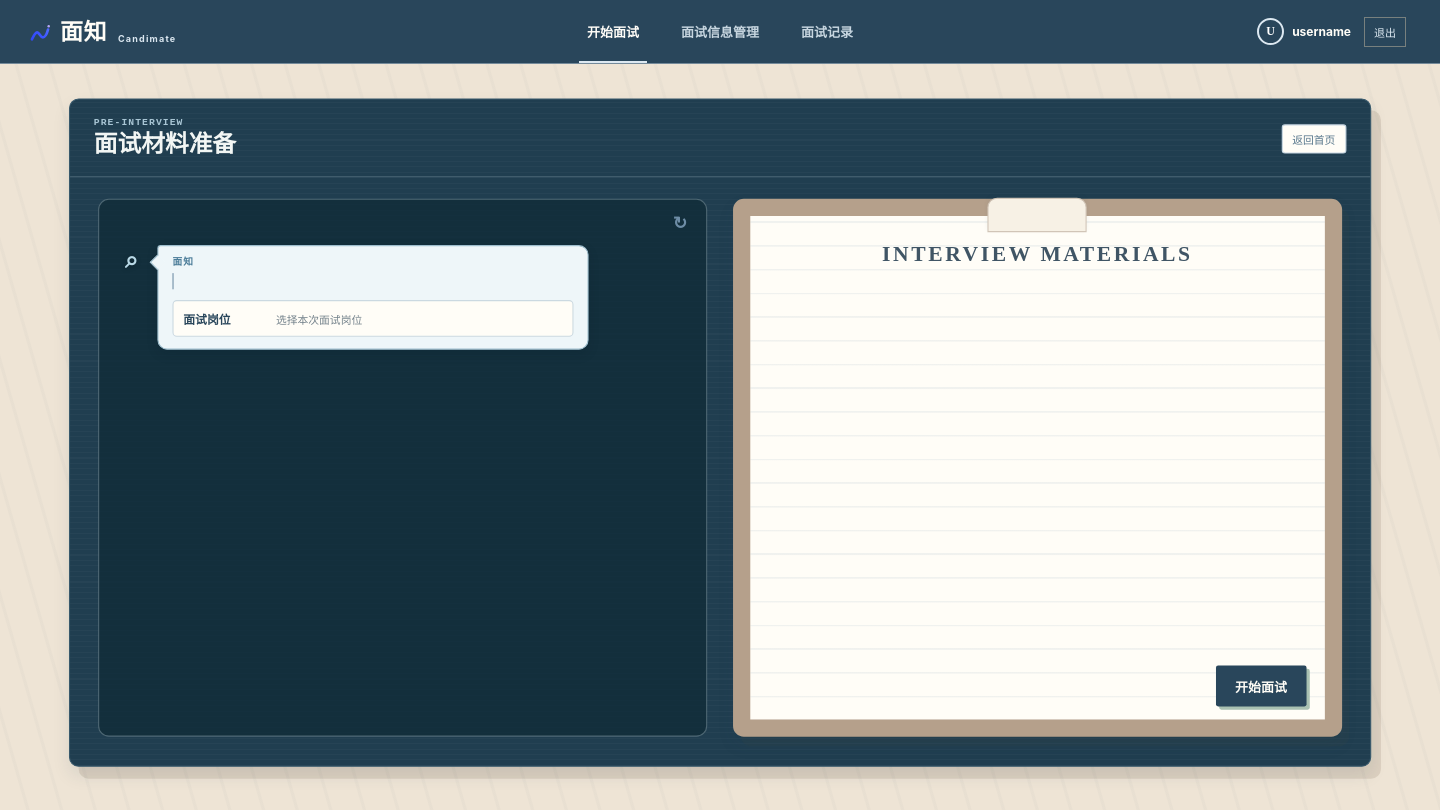
Scenario: CreateInterviewPage 开始面试页（v2.0 对话引导式） › 岗位：点击常用岗位标签直接选中
Click the button "面试岗位 选择本次面试岗位".
click(207, 320)  # box [172,300,574,337]
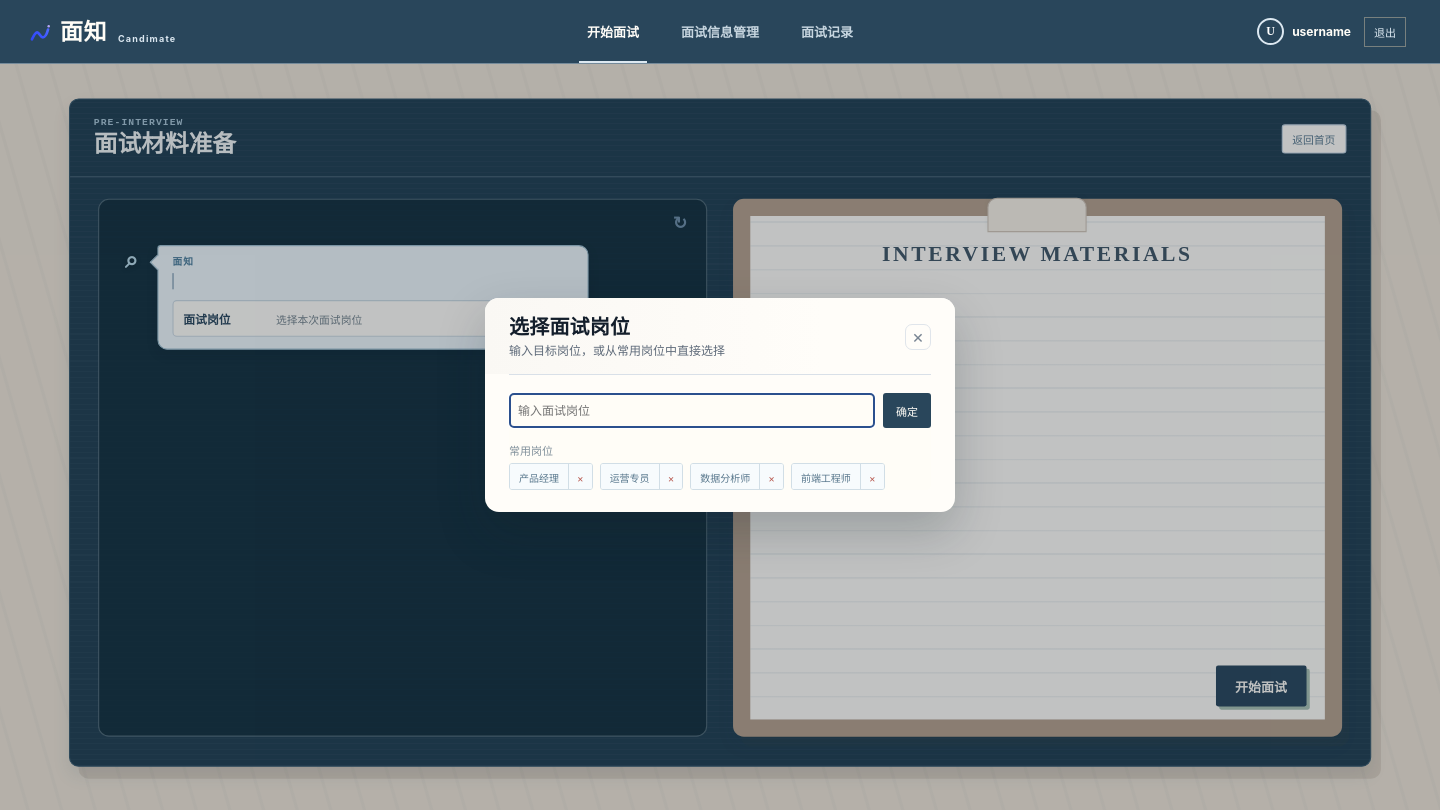
Click the button "产品经理".
click(539, 478)  # box [510,464,568,491]
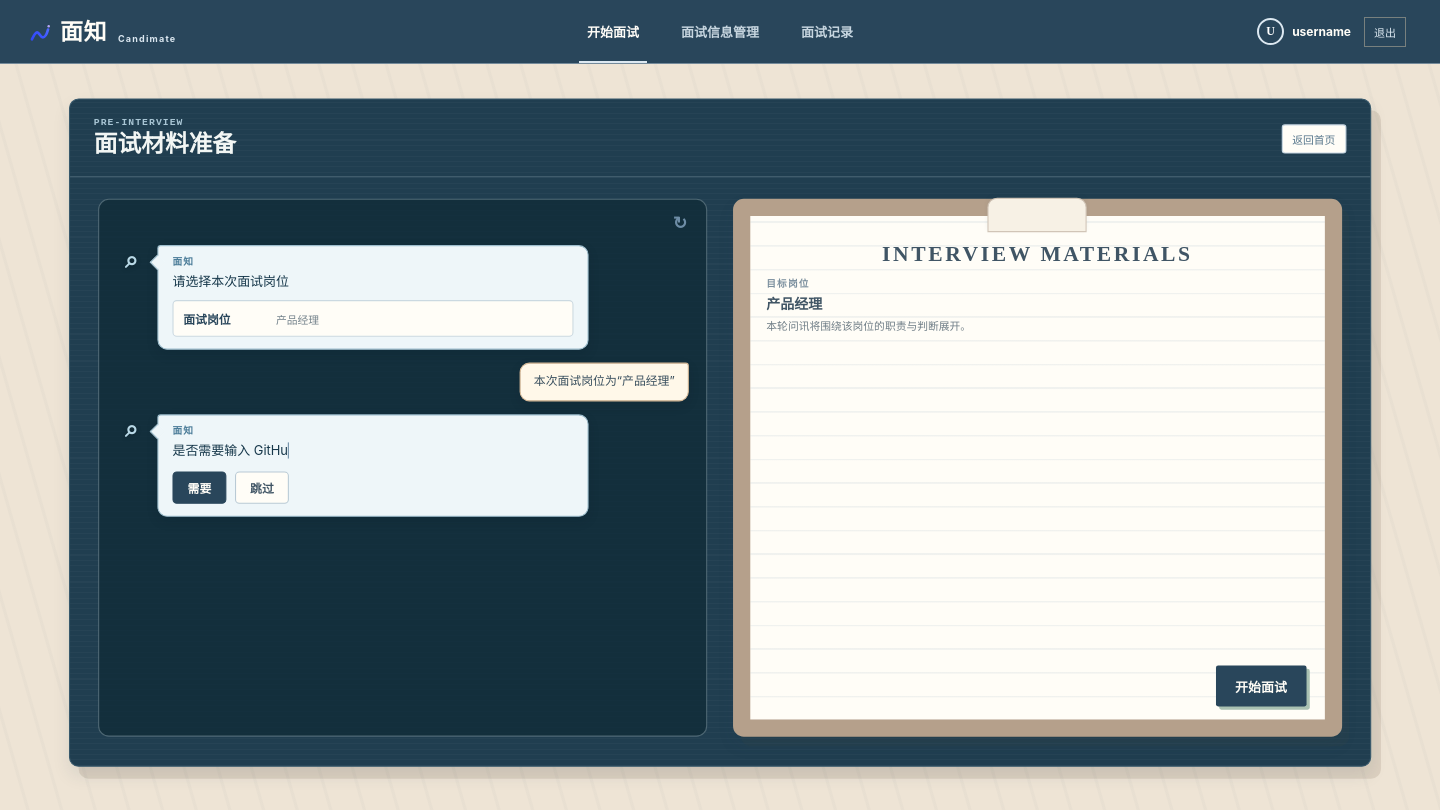
Check: the heading "选择面试岗位" is gone
Check: the text "本次面试岗位为“产品经理”" is shown, box [534,374,675,391]
